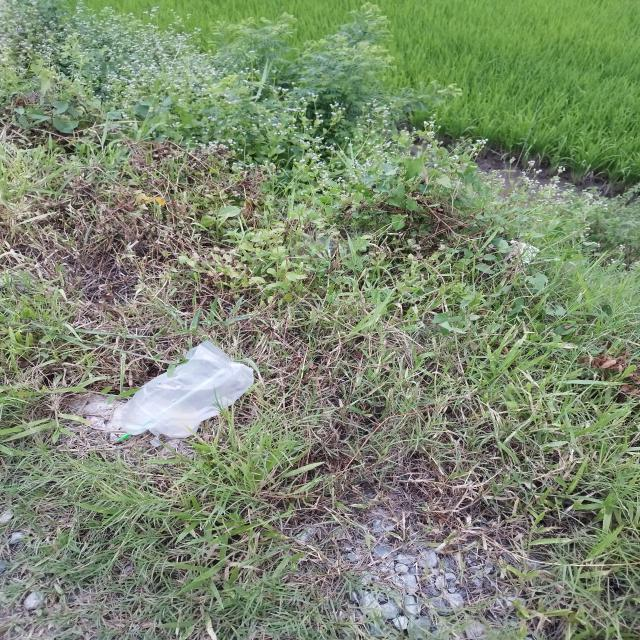bag: (122, 339, 254, 438)
